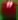brown: (0, 0, 18, 20)
